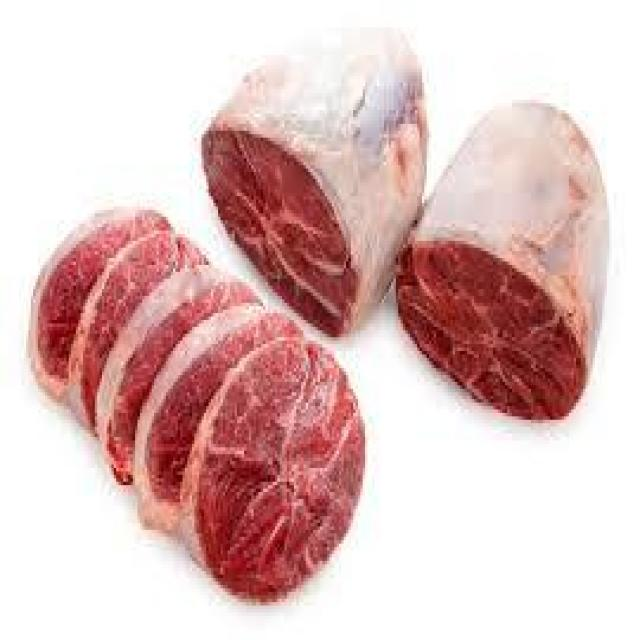beef: (216, 22, 404, 308)
